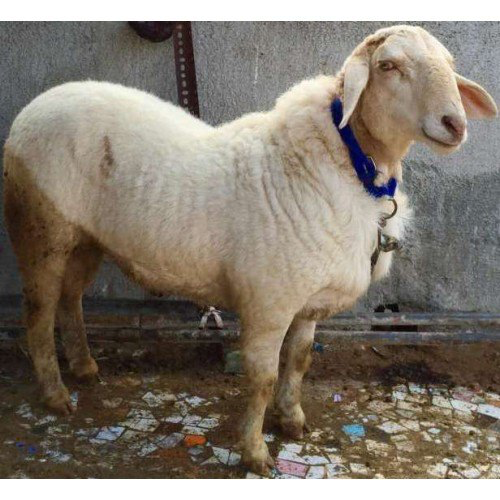koyun: (4, 22, 498, 477)
